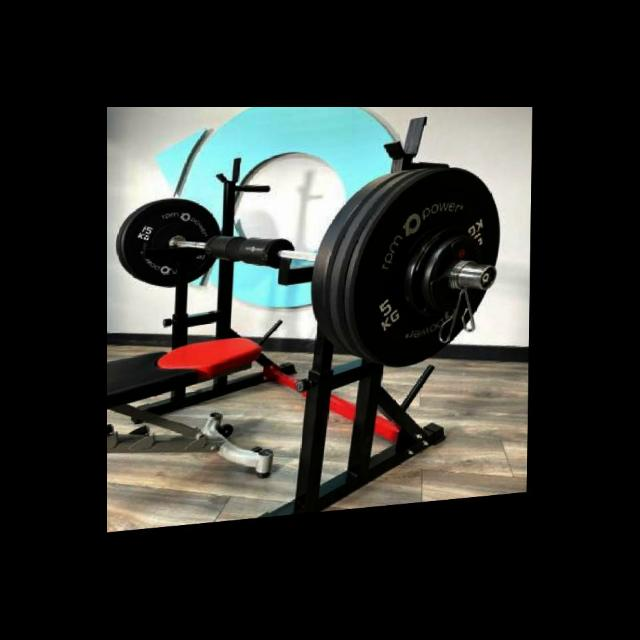barbell: (335, 167, 501, 381)
